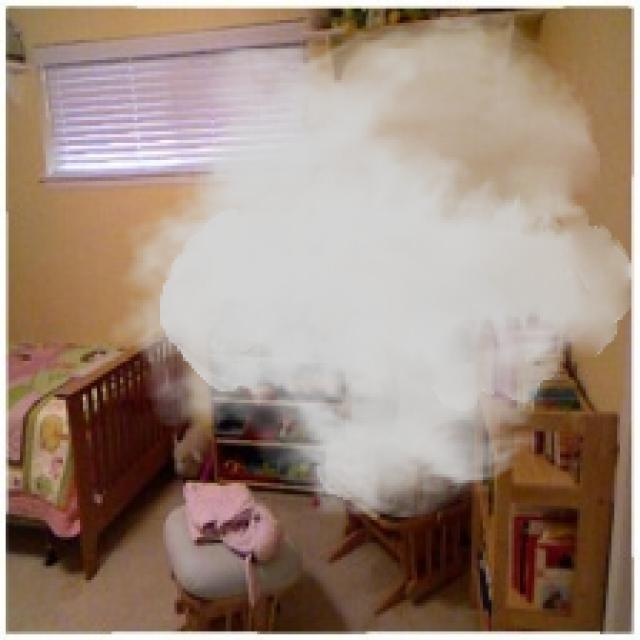smoke: (106, 3, 634, 526)
